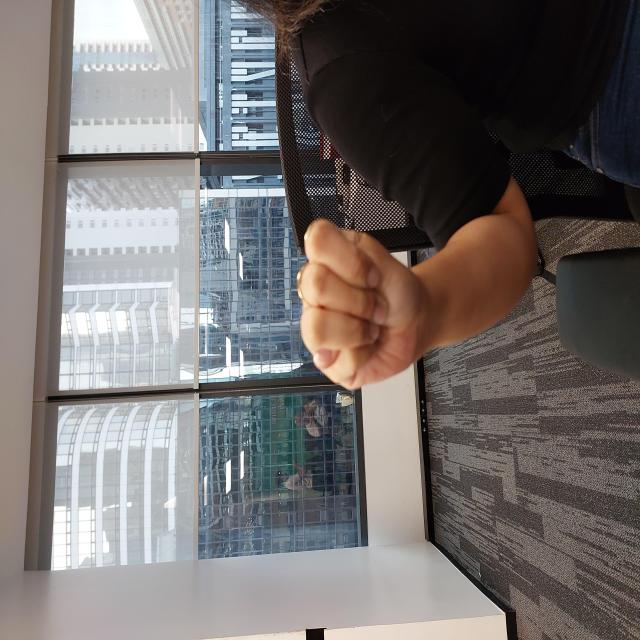M: (248, 294, 426, 433)
